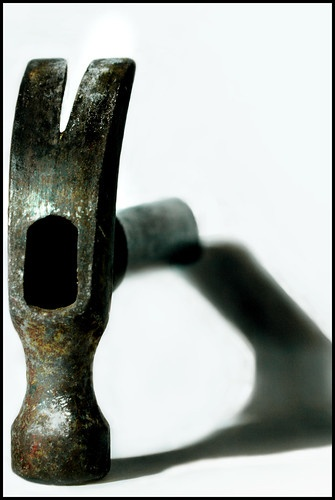hammer: (6, 56, 205, 486)
